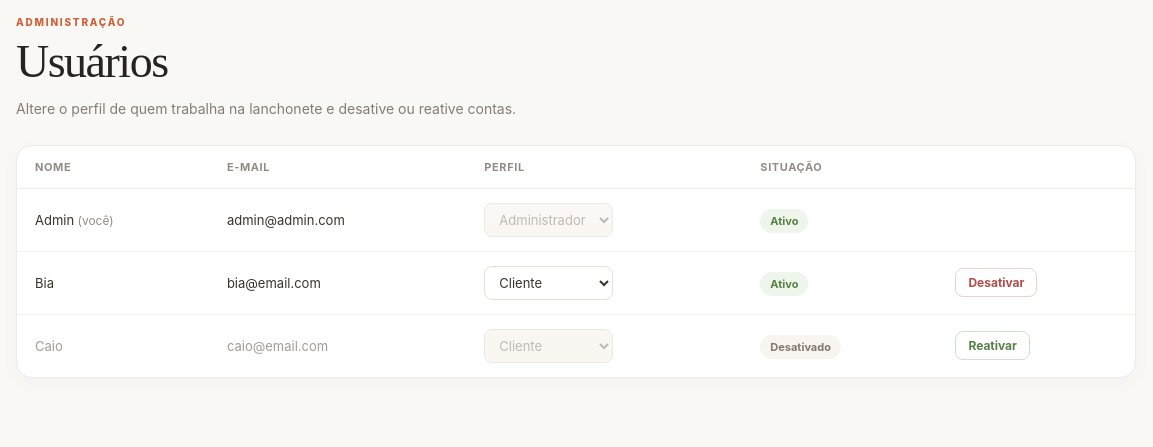
Test case: AdminUsuarios › reativar confirmado devolve as ações à linha
Expected: the text "Caio" is shown, [17, 314, 209, 377]
Click the button "Reativar" at [993, 346], box [955, 331, 1030, 360]
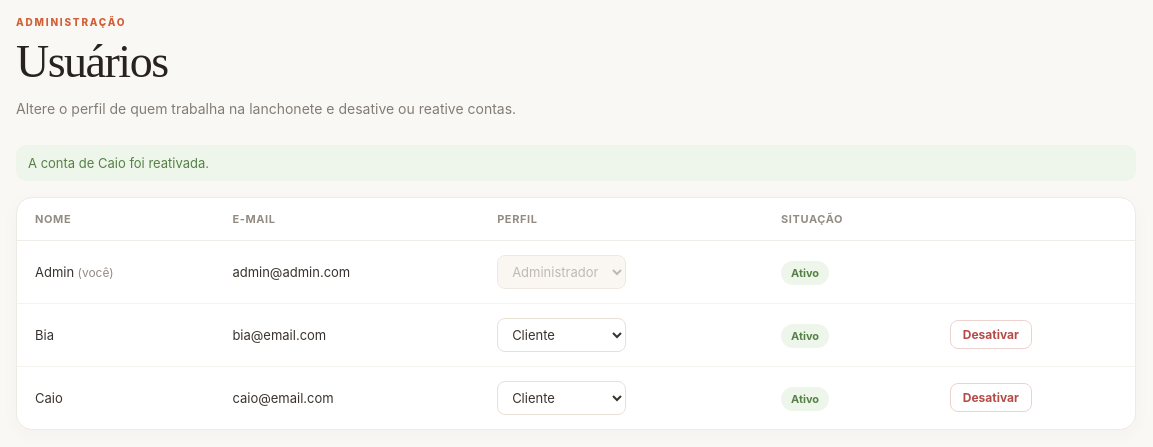
Expected: the message reads "A conta de Caio foi reativada.", [28, 155, 209, 171]
Expected: the text "Ativo" in the row of "caio@email.com" is shown, [791, 392, 819, 406]
Expected: the dropdown named "Perfil de Caio" is enabled, [497, 381, 626, 415]
